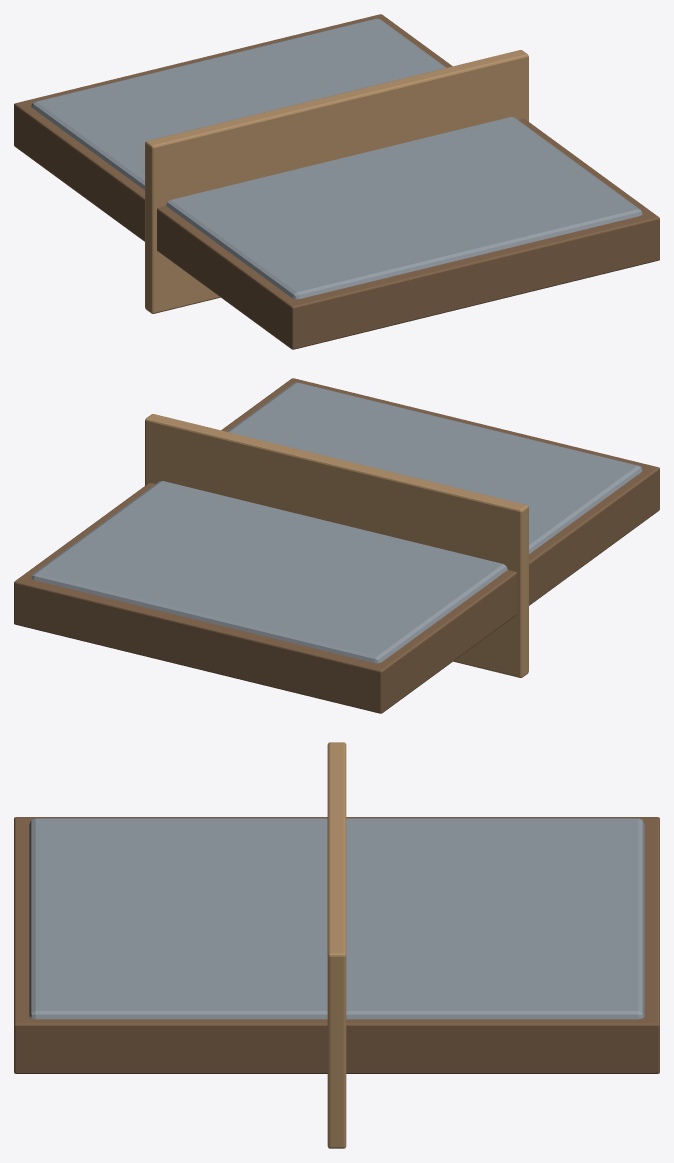
The model's file is furniture-bed-queen.glb.
3 views of the same model, one above another, from view 1: azimuth 30°, elevation 25°; view 2: azimuth 150°, elevation 25°; view 3: azimuth 270°, elevation 25° (orthographic). The views are drawn at different scales.
Visible parts, largest first — view 1: Mattress, Frame, Headboard; view 2: Mattress, Frame, Headboard; view 3: Mattress, Frame, Headboard.
Boxes of the visible parts, x1,y1,x2,y2 form: Mattress: (31, 18, 642, 299); Frame: (14, 14, 659, 349); Headboard: (145, 50, 528, 313); Mattress: (31, 382, 642, 663); Frame: (14, 378, 659, 713); Headboard: (145, 414, 528, 677); Mattress: (29, 818, 644, 1019); Frame: (14, 817, 659, 1073); Headboard: (327, 742, 346, 1148).
Bounding box in the file's own units: 1.64 × 0.7 × 2.1.
